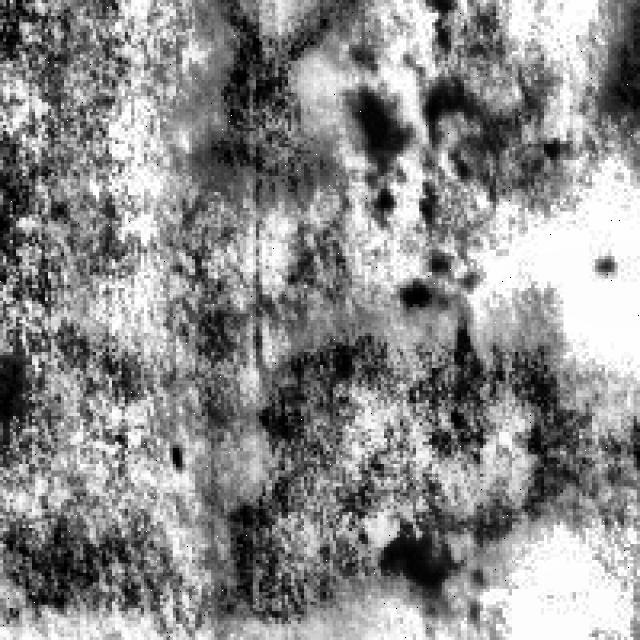Patches: (349, 70, 461, 166), (381, 524, 484, 612)
Scratches: (221, 320, 598, 614), (205, 0, 358, 186)
